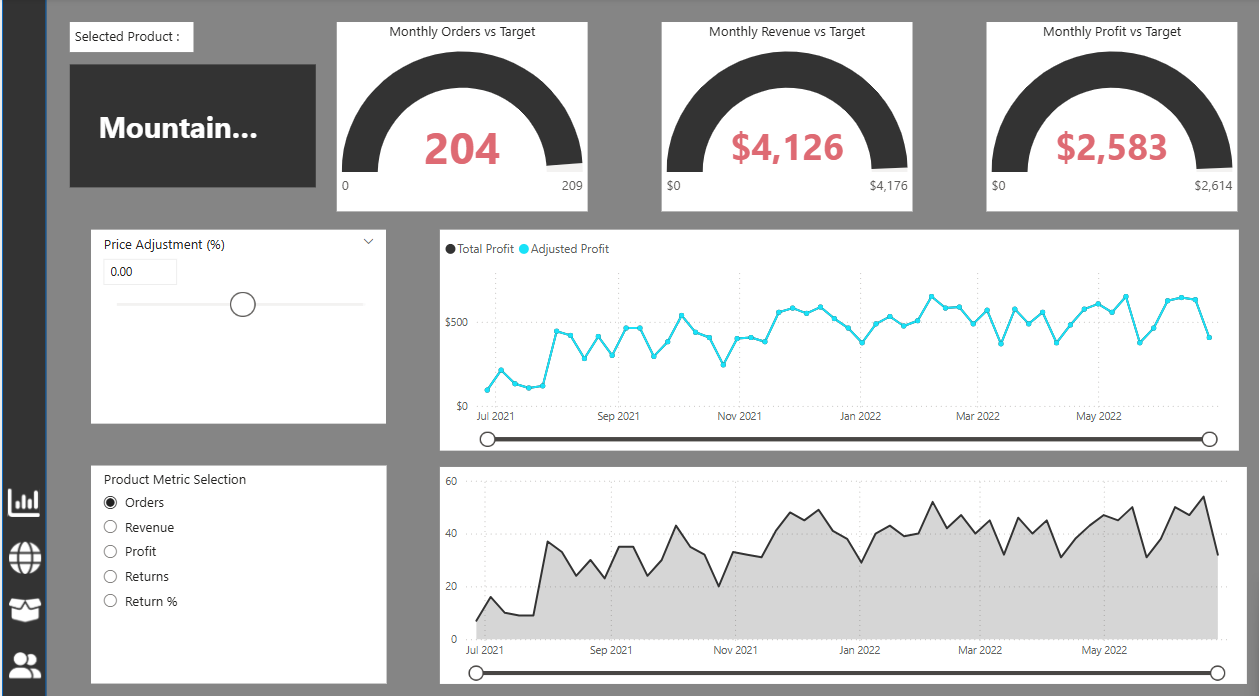

What the dashboard file says about the page in this screenshot:
{"tool":"powerbi","page":{"name":"Product Detail","canvas":[1280,720],"ordinal":2},"visuals":[{"type":"shape","box":[0,0,45,719.8],"z":0},{"type":"actionButton","box":[0.7,491.5,59.6,40.7],"z":0,"group":"g1"},{"type":"gauge","title":"Monthly Orders vs Target","fields":{"MaxValue":["Measure Table.Order Target"],"Y":["Measure Table.Total Orders"]},"box":[338.8,24.7,254.5,191.9],"z":1000},{"type":"actionButton","box":[1.4,546.8,59.6,40.7],"z":1000,"group":"g1"},{"type":"gauge","title":"Monthly Profit vs Target","fields":{"MaxValue":["Measure Table.Profit Target"],"Y":["Measure Table.Total Profit"]},"box":[997.5,24.7,254.5,191.9],"z":2000},{"type":"actionButton","box":[1.4,600.6,59.6,40.7],"z":2000,"group":"g1"},{"type":"gauge","title":"Monthly Revenue vs Target","fields":{"MaxValue":["Measure Table.Revenue Target"],"Y":["Measure Table.Total Revenue"]},"box":[668.9,24.7,254.5,191.9],"z":3000},{"type":"actionButton","box":[1.4,655.8,59.6,40.7],"z":3000,"group":"g1"},{"type":"lineChart","title":"Profit Trend","fields":{"Category":["Calendar Lookup.Date Hierarchy.Start of Year","Calendar Lookup.Date Hierarchy.Start of Month","Calendar Lookup.Date Hierarchy.Start of Week","Calendar Lookup.Date Hierarchy.Date"],"Y":["Measure Table.Total Profit","Measure Table.Adjusted Profit"]},"box":[443.6,234.7,808.5,223.2],"z":4000},{"type":"areaChart","title":"Returns Trend","fields":{"Category":["Calendar Lookup.Date Hierarchy.Start of Year","Calendar Lookup.Date Hierarchy.Start of Month","Calendar Lookup.Date Hierarchy.Start of Week","Calendar Lookup.Date Hierarchy.Date"],"Y":["Measure Table.Total Orders"]},"box":[443.5,475.5,817.2,219.6],"z":5000},{"type":"cardVisual","fields":{"Data":["Min(Product Lookup.ProductName)"]},"box":[68.7,67.3,249,124.5],"z":6000},{"type":"textbox","box":[68.3,24.7,125.1,30.5],"z":7000},{"type":"group","id":"g1","title":"nav_button","box":[0.7,491.5,60.3,205],"z":8000},{"type":"slicer","fields":{"Values":["Price Adjustment.Price Adjustment"]},"box":[90.2,234.7,299.1,196],"z":9000},{"type":"slicer","fields":{"Values":["Product Metric Selection.Product Metric Selection"]},"box":[90.2,474,299.6,221],"z":10000}]}

Visuals, with their boxes in screenshot pixels (x1, y1, x2, y2):
shape: {"left": 0, "top": 0, "right": 44, "bottom": 695}
actionButton: {"left": 1, "top": 479, "right": 60, "bottom": 519}
"Monthly Orders vs Target" gauge: {"left": 334, "top": 18, "right": 586, "bottom": 207}
actionButton: {"left": 1, "top": 533, "right": 60, "bottom": 573}
"Monthly Profit vs Target" gauge: {"left": 985, "top": 18, "right": 1236, "bottom": 207}
actionButton: {"left": 1, "top": 586, "right": 60, "bottom": 626}
"Monthly Revenue vs Target" gauge: {"left": 660, "top": 18, "right": 911, "bottom": 207}
actionButton: {"left": 1, "top": 641, "right": 60, "bottom": 681}
"Profit Trend" lineChart: {"left": 438, "top": 225, "right": 1236, "bottom": 445}
"Returns Trend" areaChart: {"left": 438, "top": 463, "right": 1244, "bottom": 680}
cardVisual - Min(Product Lookup.ProductName): {"left": 68, "top": 60, "right": 314, "bottom": 183}
textbox: {"left": 67, "top": 18, "right": 191, "bottom": 48}
"nav_button" group: {"left": 1, "top": 479, "right": 60, "bottom": 681}
slicer - Price Adjustment.Price Adjustment: {"left": 89, "top": 225, "right": 384, "bottom": 419}
slicer - Product Metric Selection.Product Metric Selection: {"left": 89, "top": 461, "right": 385, "bottom": 679}
